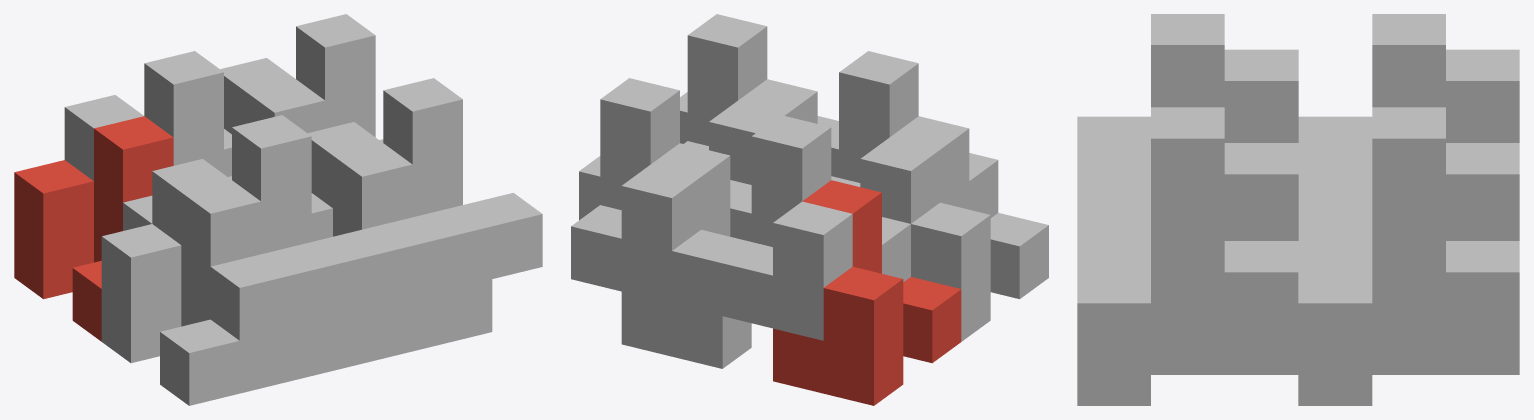
Rendered from tiling.obj.
The picture shows the model from 3 angles, left to right: view 1: azimuth 30°, elevation 25°; view 2: azimuth 150°, elevation 25°; view 3: azimuth 270°, elevation 25°; orthographic projection. The views are drawn at different scales.
Visible parts, largest first — view 1: copy_1_domain_2, copy_1_domain_4, copy_1_domain_8, copy_1_domain_1, copy_1_domain_6, copy_1_domain_3, copy_1_domain_7, copy_1_domain_5; view 2: copy_1_domain_3, copy_1_domain_7, copy_1_domain_1, copy_1_domain_2, copy_1_domain_4, copy_1_domain_5, copy_1_domain_8, copy_1_domain_6; view 3: copy_1_domain_7, copy_1_domain_8, copy_1_domain_3, copy_1_domain_4, copy_1_domain_5, copy_1_domain_6.
Boxes of the visible parts, <box> form: copy_1_domain_2: <box>101,180,340,405</box>; copy_1_domain_4: <box>152,115,391,340</box>; copy_1_domain_8: <box>308,78,542,303</box>; copy_1_domain_1: <box>14,116,173,341</box>; copy_1_domain_6: <box>311,143,492,368</box>; copy_1_domain_3: <box>64,51,231,230</box>; copy_1_domain_7: <box>220,14,383,142</box>; copy_1_domain_5: <box>224,79,324,176</box>; copy_1_domain_3: <box>722,115,910,340</box>; copy_1_domain_7: <box>571,78,751,303</box>; copy_1_domain_1: <box>773,180,961,405</box>; copy_1_domain_2: <box>890,116,1048,341</box>; copy_1_domain_4: <box>831,51,998,223</box>; copy_1_domain_5: <box>621,143,751,368</box>; copy_1_domain_8: <box>680,14,838,184</box>; copy_1_domain_6: <box>738,79,838,180</box>; copy_1_domain_7: <box>1298,107,1519,370</box>; copy_1_domain_8: <box>1077,107,1298,370</box>; copy_1_domain_3: <box>1298,14,1519,209</box>; copy_1_domain_4: <box>1077,14,1298,209</box>; copy_1_domain_5: <box>1298,339,1519,405</box>; copy_1_domain_6: <box>1077,339,1298,405</box>.
Bounding box in the file's own units: 7 × 4 × 6.
